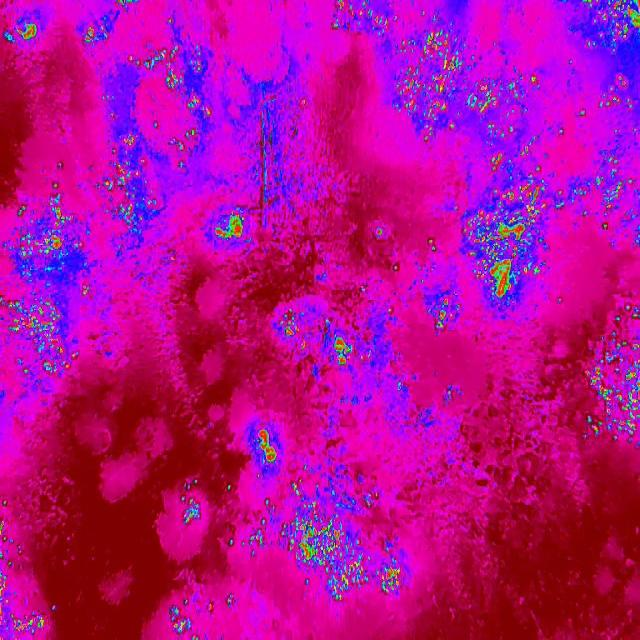fire: (226, 469, 401, 609), (392, 32, 544, 148), (552, 59, 640, 246), (468, 152, 556, 318), (129, 20, 214, 158), (373, 224, 462, 338), (577, 296, 640, 445), (1, 296, 74, 376), (98, 132, 146, 226), (9, 198, 72, 262), (0, 571, 45, 640), (328, 0, 390, 35), (165, 597, 215, 640), (584, 0, 640, 36), (0, 500, 23, 571), (210, 209, 247, 249), (78, 17, 111, 58), (176, 480, 202, 525), (255, 424, 280, 470), (332, 335, 352, 369), (280, 308, 300, 339), (15, 20, 40, 44)
